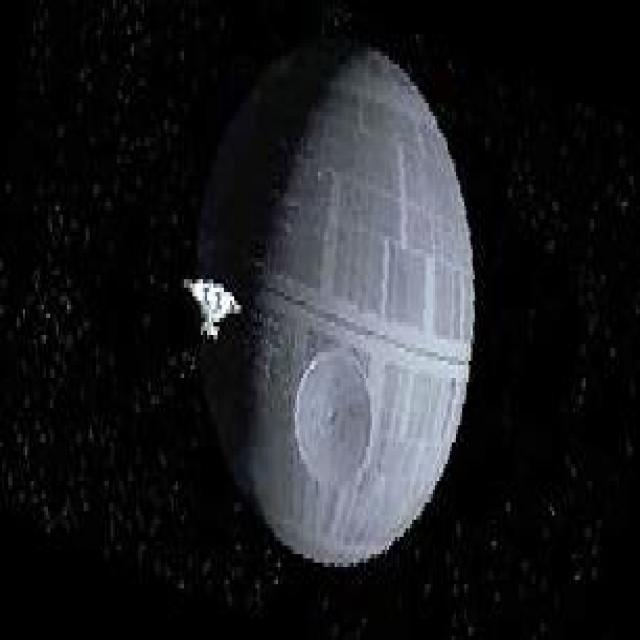Death Star: (194, 34, 483, 582)
